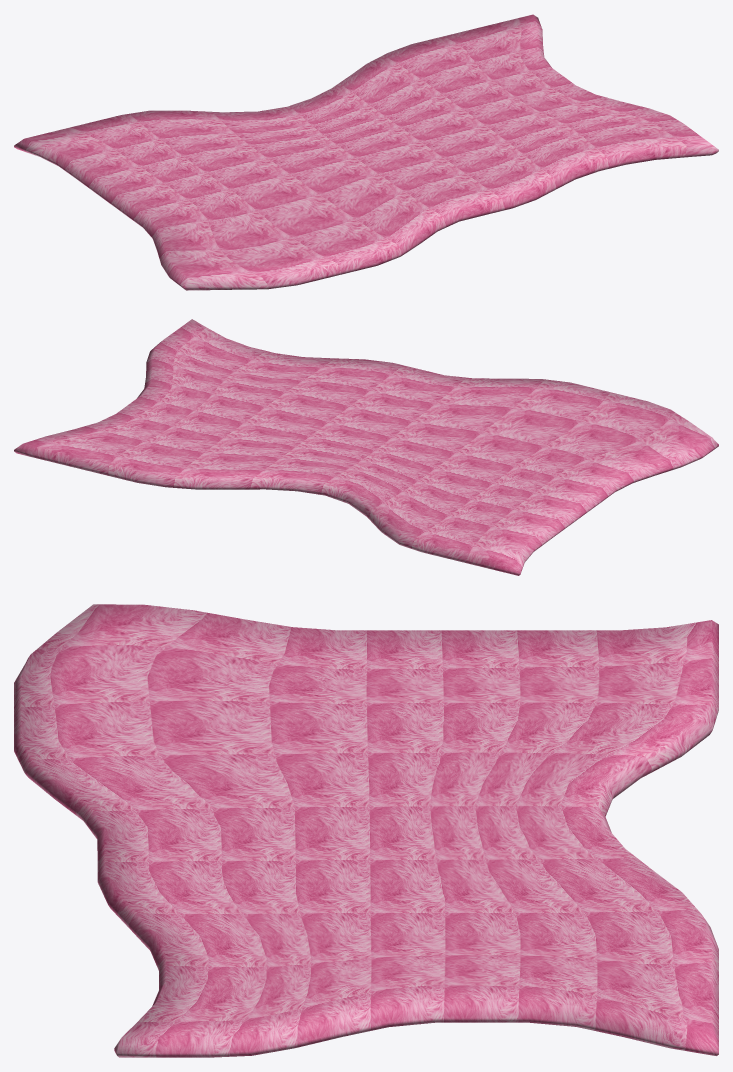
Rendered from rug fun.fbx.
3 views of the same model, one above another, from view 1: azimuth 30°, elevation 25°; view 2: azimuth 150°, elevation 25°; view 3: azimuth 270°, elevation 25° (orthographic). The views are drawn at different scales.
Visible parts, largest first — view 1: Plane.001; view 2: Plane.001; view 3: Plane.001.
Boxes of the visible parts, x1,y1,x2,y2 form: Plane.001: [14, 14, 718, 290]; Plane.001: [14, 319, 718, 575]; Plane.001: [14, 604, 718, 1057].
Bounding box in the file's own units: 200 × 4.63 × 135.
